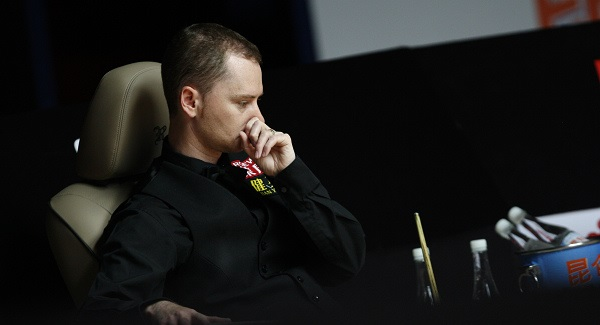face: (204, 60, 269, 152)
